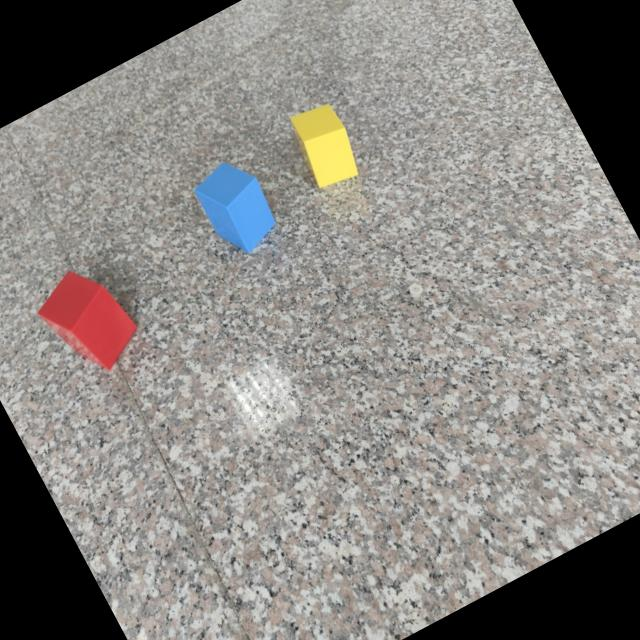blue: (195, 163, 276, 253)
red: (37, 271, 139, 372)
yellow: (290, 105, 358, 189)
